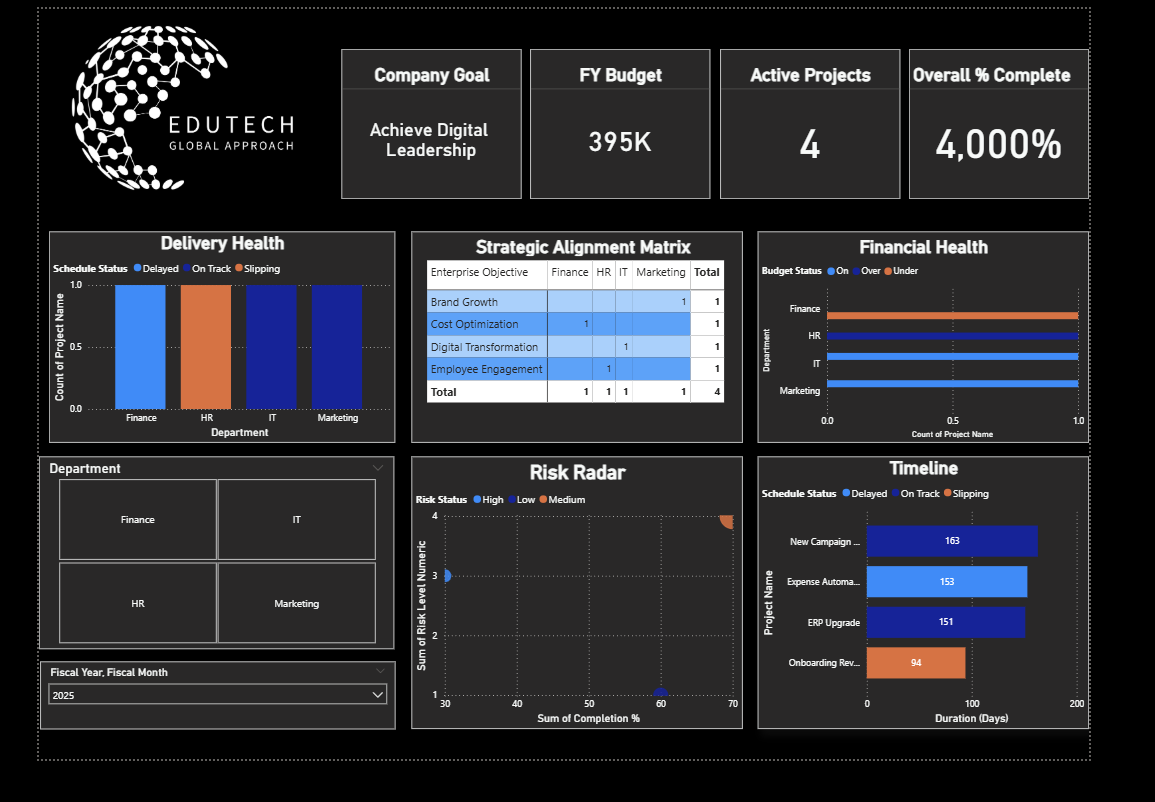

The dashboard page shown, as its layout file describes it:
{"tool":"powerbi","page":{"name":"Page 1","canvas":[1400,1000],"ordinal":0},"visuals":[{"type":"card","title":"Company Goal","fields":{"Values":["Sheet1.CompanyGoal"]},"box":[403.3,52.7,240,200],"z":0},{"type":"card","title":"FY Budget","fields":{"Values":["Sum(Sheet1.Budget (EUR))"]},"box":[655,52.7,240,200],"z":1000},{"type":"card","title":"Active Projects","fields":{"Values":["Count(Sheet1.Project Name)"]},"box":[908.3,52.7,240,200],"z":2000},{"type":"card","title":"Overall % Complete","fields":{"Values":["Avg(Sheet1.Completion %)"]},"box":[1160,53.3,240,200],"z":3000},{"type":"pivotTable","title":"Strategic Alignment Matrix","fields":{"Rows":["Sheet1.Enterprise Objective"],"Columns":["Sheet1.Department"],"Values":["Count(Sheet1.Project Name)"]},"box":[496.7,296,441.7,281.7],"z":4000},{"type":"columnChart","title":"Delivery Health","fields":{"Category":["Sheet1.Department"],"Y":["CountNonNull(Sheet1.Project Name)"],"Series":["Sheet1.Schedule Status"]},"box":[13.3,296,461.7,281.7],"z":5000},{"type":"clusteredBarChart","title":"Financial Health","fields":{"Category":["Sheet1.Department"],"Y":["Count(Sheet1.Project Name)"],"Series":["Sheet1.Budget Status"]},"box":[958.3,296.3,441.7,281.7],"z":6000},{"type":"scatterChart","title":"Risk Radar","fields":{"X":["Sum(Sheet1.Completion %)"],"Y":["Sum(Sheet1.Risk Level Numeric)"],"Size":["Sum(Sheet1.Budget (EUR))"],"Series":["Sheet1.Risk Status"]},"box":[496.7,596,441.7,363.3],"z":7000},{"type":"barChart","title":"Timeline ","fields":{"Category":["Sheet1.Project Name"],"Series":["Sheet1.Schedule Status"],"Y":["Sheet1.Gantt Duration"]},"box":[958.3,596.3,441.7,363.3],"z":8000},{"type":"slicer","fields":{"Values":["Sheet1.Fiscal Year","Sheet1.Fiscal Month"]},"box":[1.7,869.3,473.3,90],"z":9000},{"type":"slicer","fields":{"Values":["Sheet1.Department"]},"box":[0,596,473.3,256.7],"z":10000},{"type":"image","box":[1.7,0,388.3,270],"z":11000}]}

Visuals, with their boxes in screenshot pixels (x1, y1, x2, y2), scaled from the page's 1400x1000 canvas onto the 1155x802 screenshot:
"Company Goal" card: (left=333, top=42, right=531, bottom=203)
"FY Budget" card: (left=540, top=42, right=738, bottom=203)
"Active Projects" card: (left=749, top=42, right=947, bottom=203)
"Overall % Complete" card: (left=957, top=43, right=1154, bottom=203)
"Strategic Alignment Matrix" pivotTable: (left=410, top=237, right=774, bottom=463)
"Delivery Health" columnChart: (left=11, top=237, right=392, bottom=463)
"Financial Health" clusteredBarChart: (left=791, top=238, right=1154, bottom=464)
"Risk Radar" scatterChart: (left=410, top=478, right=774, bottom=769)
"Timeline " barChart: (left=791, top=478, right=1154, bottom=770)
slicer - Sheet1.Fiscal Year x Sheet1.Fiscal Month: (left=1, top=697, right=392, bottom=769)
slicer - Sheet1.Department: (left=0, top=478, right=390, bottom=684)
image: (left=1, top=0, right=322, bottom=217)
